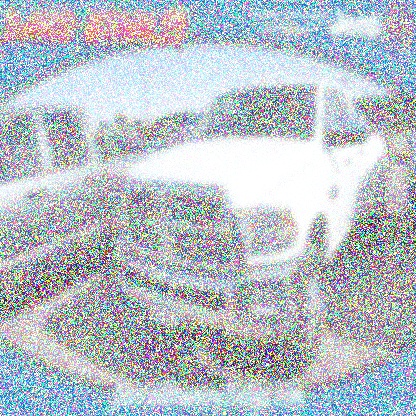Vehicle: (113, 82, 390, 377)
